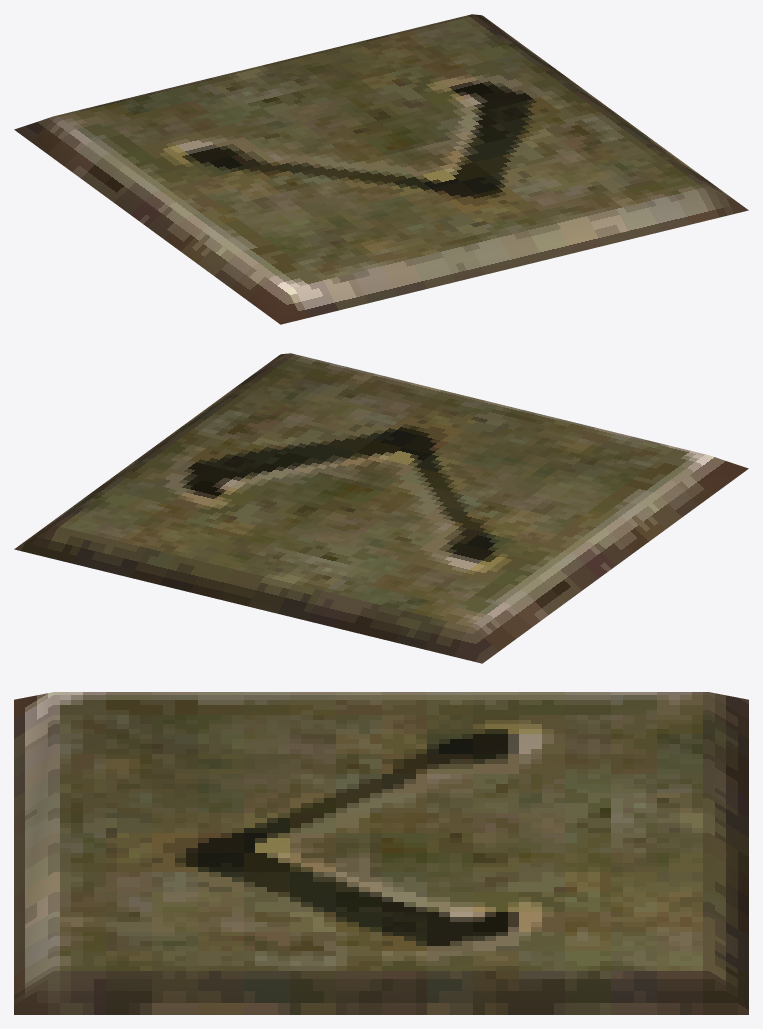
File: EREBOR_RUNE_PZL_EREBOR_PZL_TILE_STATIC28.fbx
3 renders of one model, top to bottom at view 1: azimuth 30°, elevation 25°; view 2: azimuth 150°, elevation 25°; view 3: azimuth 270°, elevation 25°, orthographic. The views are drawn at different scales.
Parts seen in each view (by area): view 1: EREBOR_RUNE_PZL_EREBOR_PZL_TILE_STATIC28; view 2: EREBOR_RUNE_PZL_EREBOR_PZL_TILE_STATIC28; view 3: EREBOR_RUNE_PZL_EREBOR_PZL_TILE_STATIC28.
Part boxes in pixels (<box>): EREBOR_RUNE_PZL_EREBOR_PZL_TILE_STATIC28: <box>14,14,748,324</box>; EREBOR_RUNE_PZL_EREBOR_PZL_TILE_STATIC28: <box>14,353,748,663</box>; EREBOR_RUNE_PZL_EREBOR_PZL_TILE_STATIC28: <box>14,692,748,1014</box>.
Size of the model in its own units: 10240 by 370 by 10093.
Materials: 1 (1 with a texture image).
